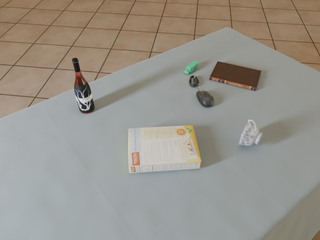book: (209, 62, 261, 91)
bottle: (72, 58, 94, 113)
box: (128, 126, 201, 173)
cup: (239, 120, 263, 146)
mouse: (196, 91, 214, 107)
toy_car: (184, 61, 198, 74)
